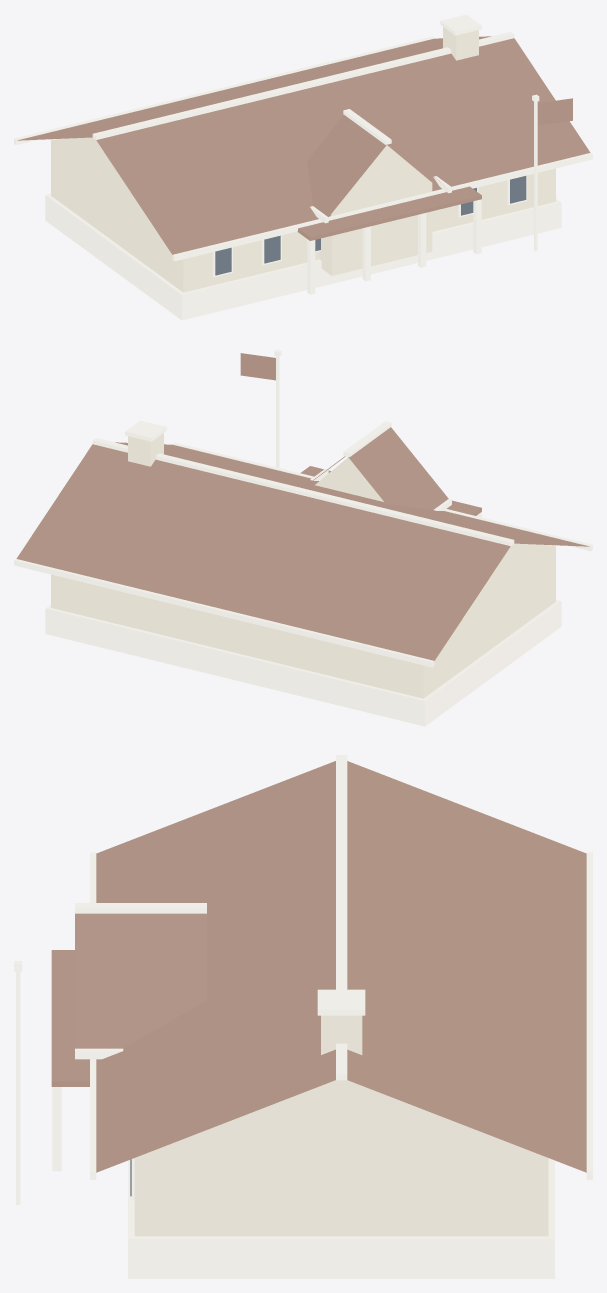
File: Blender_Clubhouse_lodge.glb
The picture shows the model from 3 angles, top to bottom: view 1: azimuth 30°, elevation 25°; view 2: azimuth 150°, elevation 25°; view 3: azimuth 270°, elevation 25°; orthographic projection. The views are drawn at different scales.
Parts seen in each view (by area): view 1: Blender_Clubhouse_lodge; view 2: Blender_Clubhouse_lodge; view 3: Blender_Clubhouse_lodge.
Part boxes in pixels (left/top/right/bottom): Blender_Clubhouse_lodge: left=14, top=14, right=592, bottom=320; Blender_Clubhouse_lodge: left=14, top=349, right=592, bottom=726; Blender_Clubhouse_lodge: left=14, top=755, right=592, bottom=1278.
Size of the model in its own units: 29.2 by 11.5 by 22.38.
